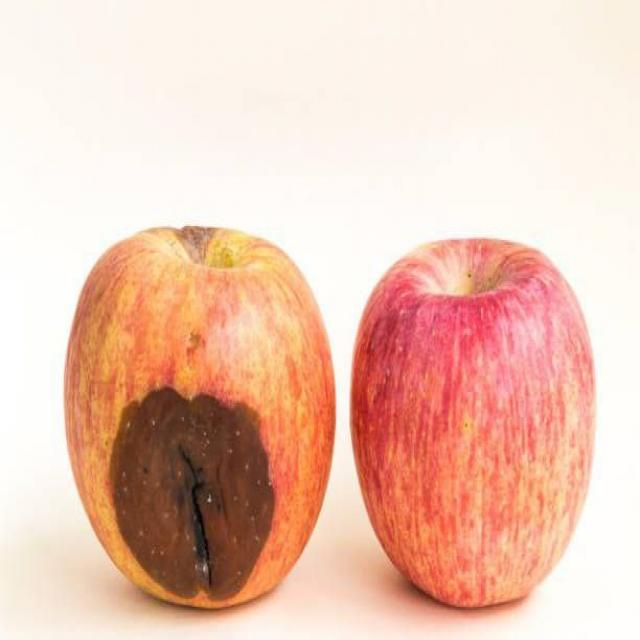fresh_apple: (352, 242, 594, 608)
rotten_apple: (66, 229, 338, 609)
